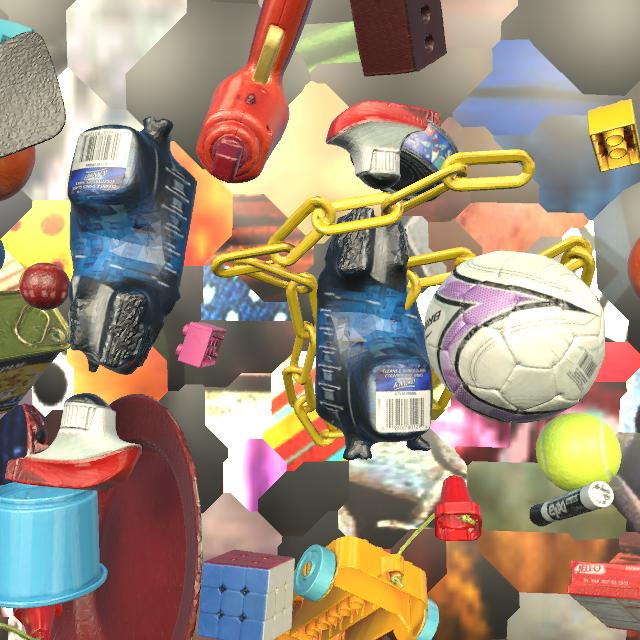ycb_007_tuna_fish_can: (350, 119, 459, 202)
ycb_009_gelatin_box: (567, 560, 640, 632)
ycb_010_potted_meat_can: (0, 290, 70, 414)
ycb_017_orange: (0, 146, 36, 202), (627, 237, 640, 299)
